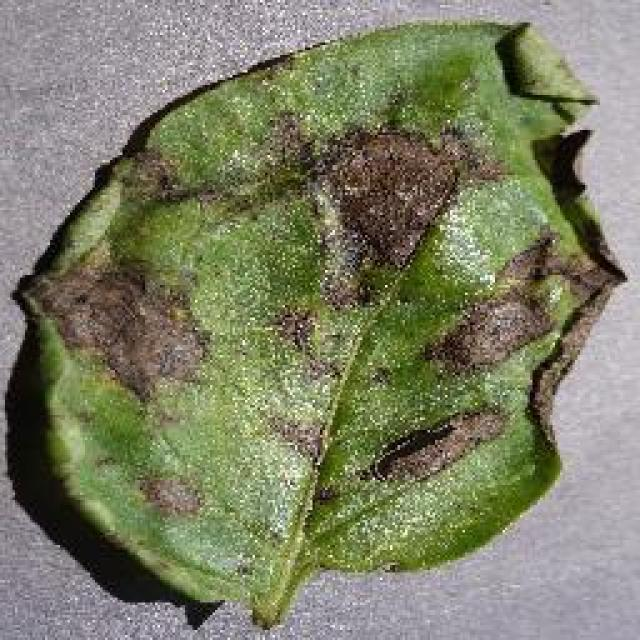early_blight: (8, 15, 630, 630)
